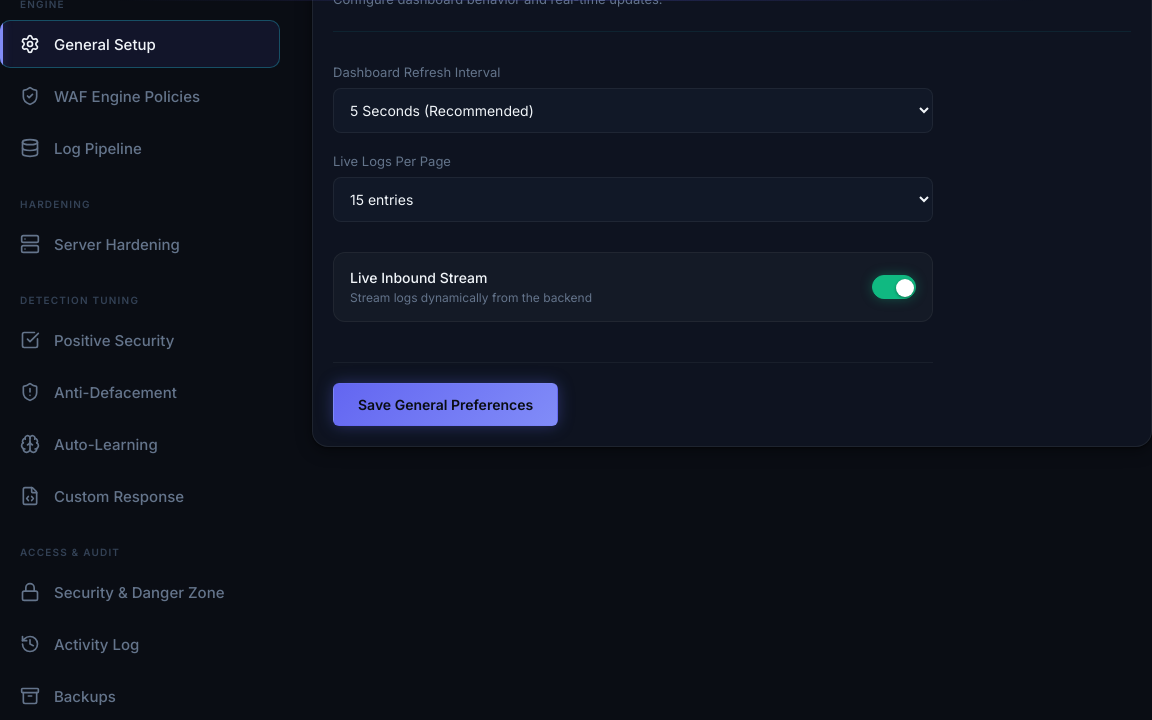
Scenario: Settings — Backups › restoring confirms first, naming the exact overwrite risk
The width and height of the screenshot is (1152, 720).
(page scrolled)
Click the button "Backups": (85, 696) [0,672,280,719]
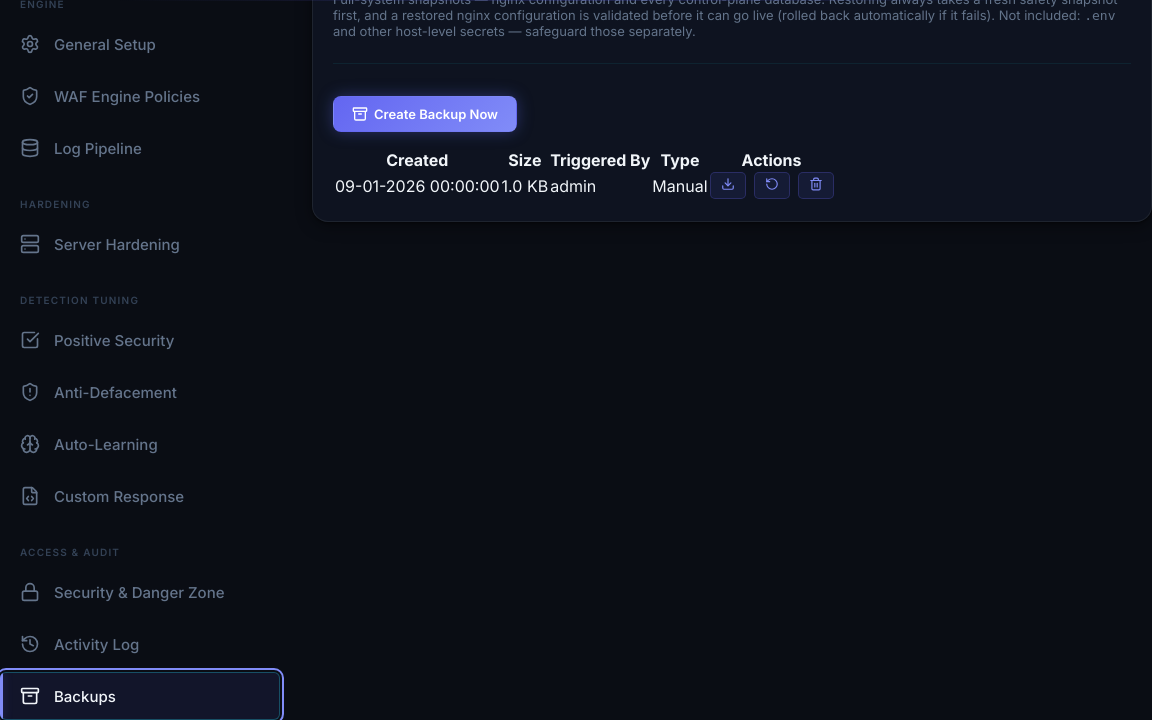
Click the button titled "Restore": (772, 186) [754,172,790,199]
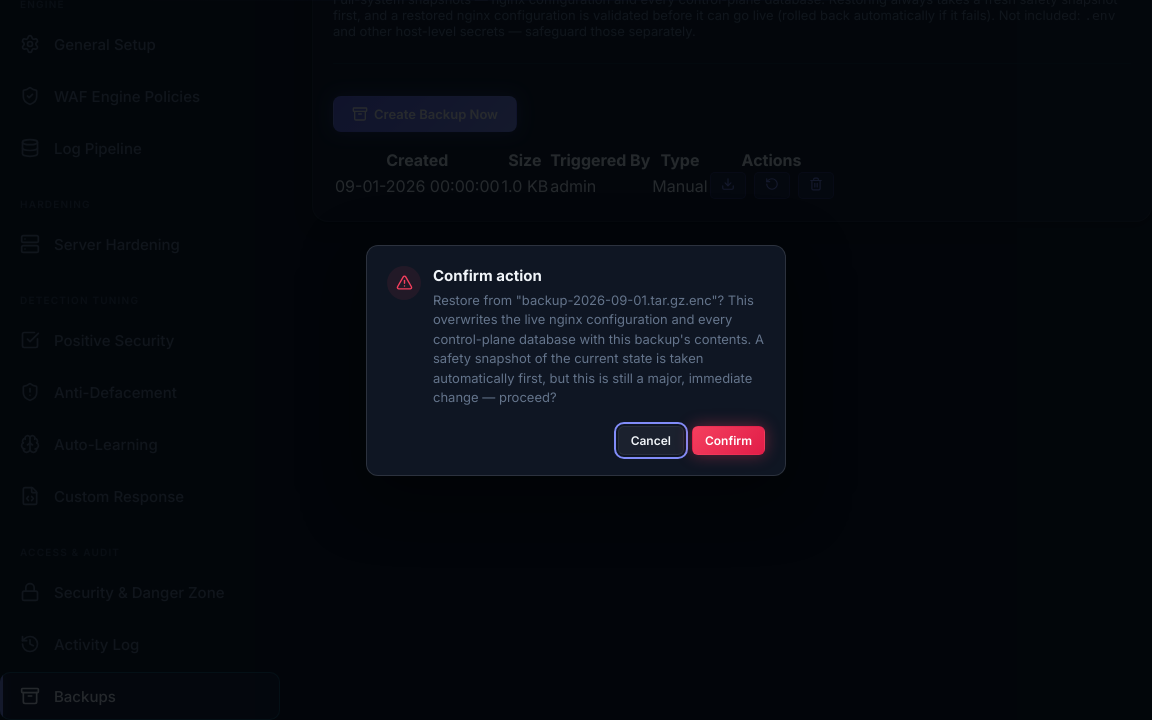
Expected: the text "overwrites the live nginx configuration" is shown, [433,292,764,405]
Click the button "Confirm": (728, 440) [692,426,765,454]
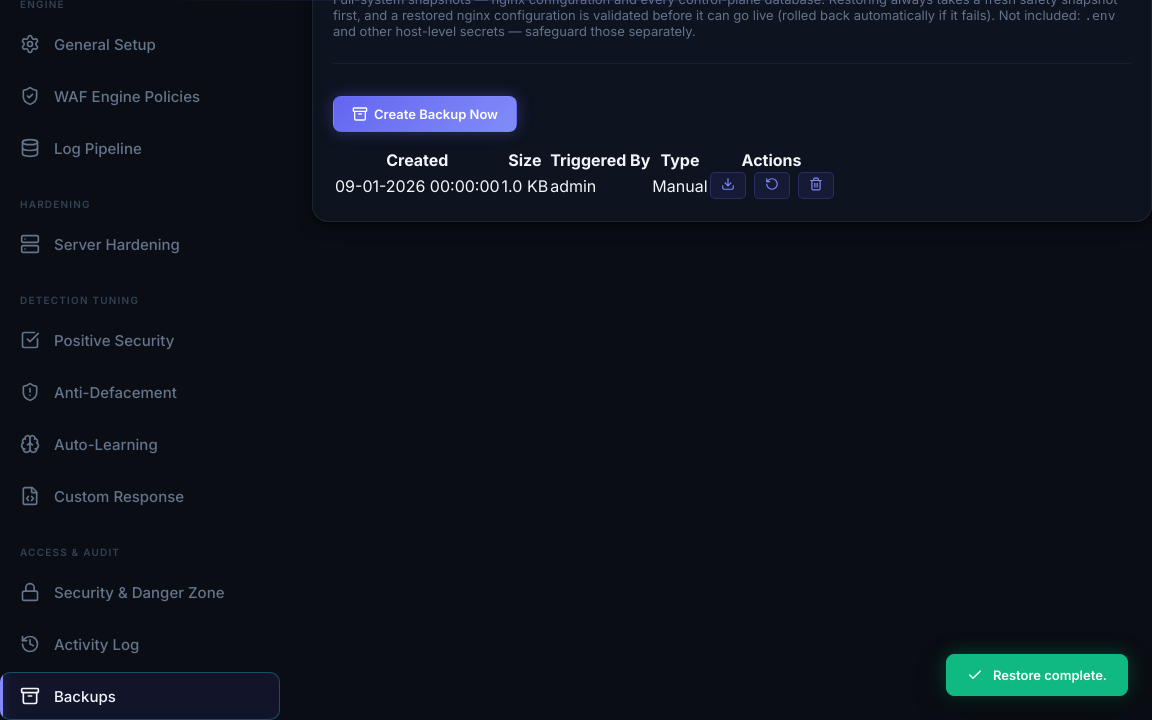
Expected: the text "Restore complete." is shown, [993,667,1107,683]
